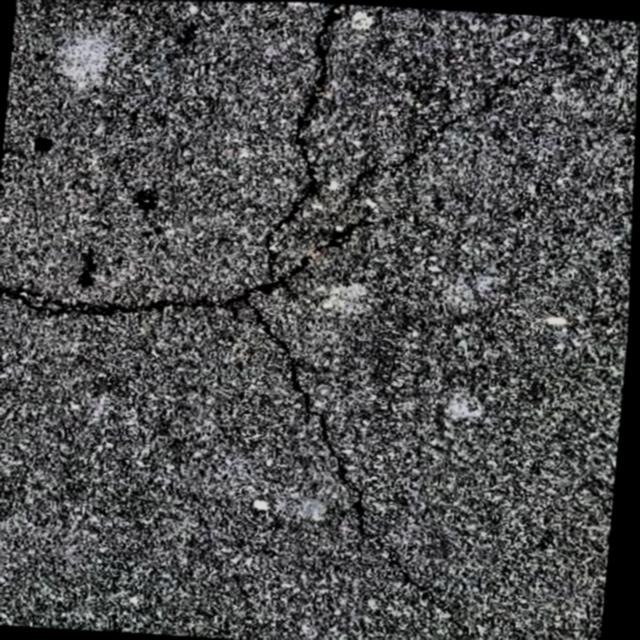cracks: (224, 294, 454, 620), (0, 219, 369, 314), (281, 3, 342, 266)
